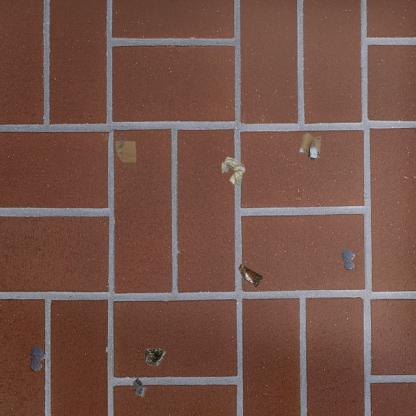dirty: (220, 155, 247, 187), (297, 131, 323, 164), (235, 262, 265, 289), (114, 139, 138, 170), (143, 346, 166, 368), (132, 375, 148, 399)
liquid: (29, 344, 48, 372), (341, 247, 356, 271)
